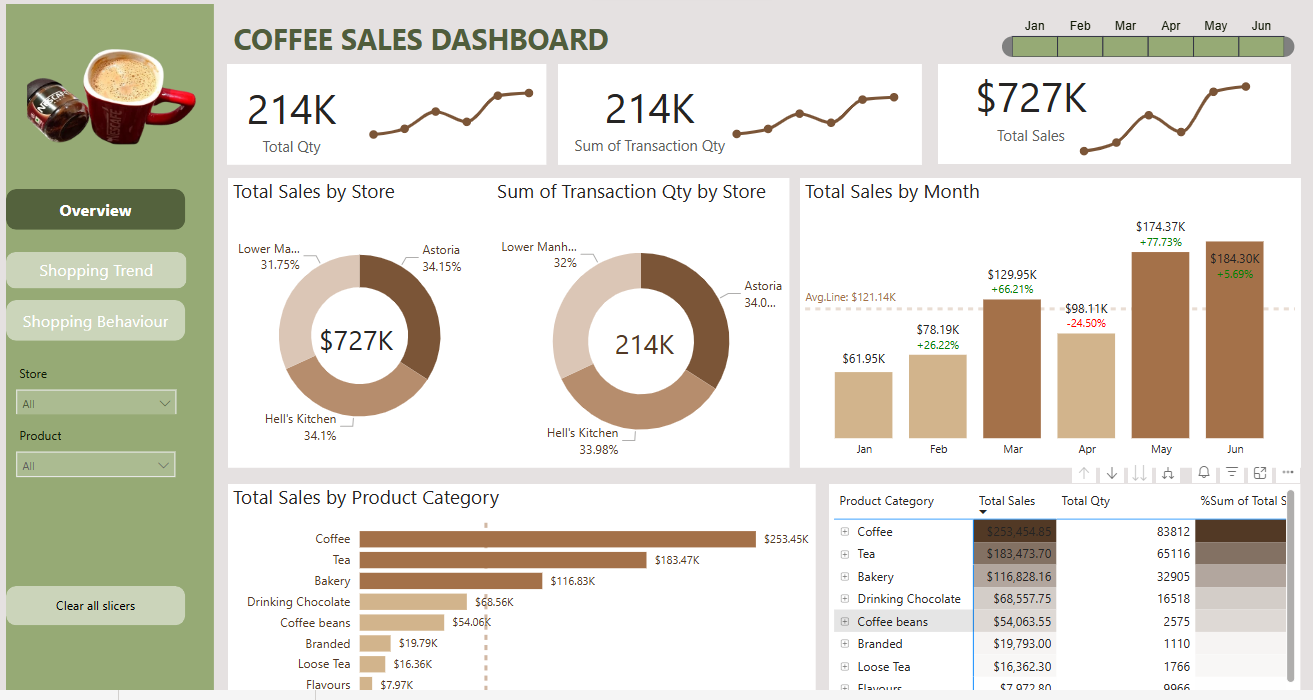

Layout of this report page (visuals, bound fields, positions):
{"tool":"powerbi","page":{"name":"Overview","canvas":[1280,720],"ordinal":0},"visuals":[{"type":"shape","box":[217.4,170.9,551.1,284.4],"z":0},{"type":"shape","box":[0,0,203.8,709.7],"z":1000},{"type":"shape","box":[541.1,58.9,356.7,98.9],"z":2000},{"type":"shape","box":[913.3,58.9,345.6,97.8],"z":3000},{"type":"shape","box":[216.7,58.9,313.3,98.9],"z":4000},{"type":"clusteredColumnChart","fields":{"Y":["Measure.Total Sales"],"Category":["DIM_Date.Month Name"]},"box":[778.1,170.9,490.9,284.4],"z":5000},{"type":"card","fields":{"Values":["Measure.Total Sales"]},"box":[913.3,50,182.2,100],"z":6000},{"type":"card","fields":{"Values":["Measure.Total Qty"]},"box":[216.7,64.4,126.7,93.3],"z":7000},{"type":"card","fields":{"Values":["FACT_Transaction.Transaction Qty"]},"box":[542.2,66.7,177.8,87.8],"z":8000},{"type":"lineChart","fields":{"Y":["Measure.Total Qty"],"Category":["DIM_Date.Month Name"]},"box":[343.3,66.7,186.7,87.8],"z":9000},{"type":"lineChart","fields":{"Y":["Measure.Total Sales"],"Category":["DIM_Date.Month Name"]},"box":[1038.9,58.9,194.4,97.8],"z":10000},{"type":"lineChart","fields":{"Y":["FACT_Transaction.Transaction Qty"],"Category":["DIM_Date.Month Name"]},"box":[698.9,71.1,188.9,80],"z":11000},{"type":"donutChart","fields":{"Category":["DIM_Store.Store"],"Y":["Measure.Total Sales"]},"box":[217.4,170.9,258.5,284.4],"z":12000},{"type":"card","fields":{"Values":["Measure.Total Sales"]},"box":[287.2,283.1,112.1,93],"z":13000},{"type":"clusteredBarChart","fields":{"Y":["Measure.Total Sales"],"Category":["DIM_Product.Product Category","DIM_Product.Product Type","DIM_Product.Product Detail"]},"box":[217.4,470.4,575.7,239.3],"z":14000},{"type":"pivotTable","fields":{"Rows":["DIM_Product.Product Category","DIM_Product.Product Type","DIM_Product.Product Detail"],"Values":["Measure.Total Sales","Measure.Total Qty","FACT_Transaction.Total Sales","SparklineData(Measure.Total Sales_[DIM_Date.Month Name])"]},"box":[806.8,470.4,462.2,239.3],"z":15000},{"type":"actionButton","box":[0,181.4,175.7,40],"z":16000},{"type":"actionButton","box":[0,242.9,177.1,35.7],"z":17000},{"type":"shape","box":[204.3,8.6,405.7,50],"z":18000},{"type":"slicer","fields":{"Values":["DIM_Store.Store"]},"box":[0,348.6,177.1,52.9],"z":19000},{"type":"slicer","fields":{"Values":["DIM_Product.Product Category","DIM_Product.Product Type","DIM_Product.Product Detail"]},"box":[0,410,175.7,57.1],"z":20000},{"type":"Timeline1447991079100","fields":{"Time":["DIM_Date.Date"]},"box":[971.4,4.3,298.6,58.6],"z":21000},{"type":"actionButton","box":[0,570,175.7,38.6],"z":22000},{"type":"image","box":[15.7,0,175.7,181.4],"z":23000},{"type":"donutChart","fields":{"Y":["FACT_Transaction.Transaction Qty"],"Category":["DIM_Store.Store"]},"box":[475.9,170.9,292.6,295.4],"z":24000},{"type":"card","fields":{"Values":["FACT_Transaction.Transaction Qty"]},"box":[552.5,300.9,146.3,65.6],"z":25000},{"type":"actionButton","box":[0,290,175.7,40],"z":26000},{"type":"textbox","title":"@Brightness Adasigwung","box":[11.4,671.4,180,38.6],"z":27000}]}

Visuals, with their boxes on the page's 1280x720 design canvas (x1, y1, x2, y2). These are canvas units, not pixel positions in the 1313x700 screenshot, which may show the page scaled, cropped or inside an application window:
shape: crop(217, 171, 768, 455)
shape: crop(0, 0, 204, 710)
shape: crop(541, 59, 898, 158)
shape: crop(913, 59, 1259, 157)
shape: crop(217, 59, 530, 158)
clusteredColumnChart - Measure.Total Sales x DIM_Date.Month Name: crop(778, 171, 1269, 455)
card - Measure.Total Sales: crop(913, 50, 1096, 150)
card - Measure.Total Qty: crop(217, 64, 343, 158)
card - FACT_Transaction.Transaction Qty: crop(542, 67, 720, 154)
lineChart - Measure.Total Qty x DIM_Date.Month Name: crop(343, 67, 530, 154)
lineChart - Measure.Total Sales x DIM_Date.Month Name: crop(1039, 59, 1233, 157)
lineChart - FACT_Transaction.Transaction Qty x DIM_Date.Month Name: crop(699, 71, 888, 151)
donutChart - DIM_Store.Store x Measure.Total Sales: crop(217, 171, 476, 455)
card - Measure.Total Sales: crop(287, 283, 399, 376)
clusteredBarChart - Measure.Total Sales x DIM_Product.Product Category: crop(217, 470, 793, 710)
pivotTable - DIM_Product.Product Category x DIM_Product.Product Type: crop(807, 470, 1269, 710)
actionButton: crop(0, 181, 176, 221)
actionButton: crop(0, 243, 177, 279)
shape: crop(204, 9, 610, 59)
slicer - DIM_Store.Store: crop(0, 349, 177, 402)
slicer - DIM_Product.Product Category x DIM_Product.Product Type: crop(0, 410, 176, 467)
Timeline1447991079100 - DIM_Date.Date: crop(971, 4, 1270, 63)
actionButton: crop(0, 570, 176, 609)
image: crop(16, 0, 191, 181)
donutChart - FACT_Transaction.Transaction Qty x DIM_Store.Store: crop(476, 171, 768, 466)
card - FACT_Transaction.Transaction Qty: crop(552, 301, 699, 366)
actionButton: crop(0, 290, 176, 330)
"@Brightness Adasigwung" textbox: crop(11, 671, 191, 710)
